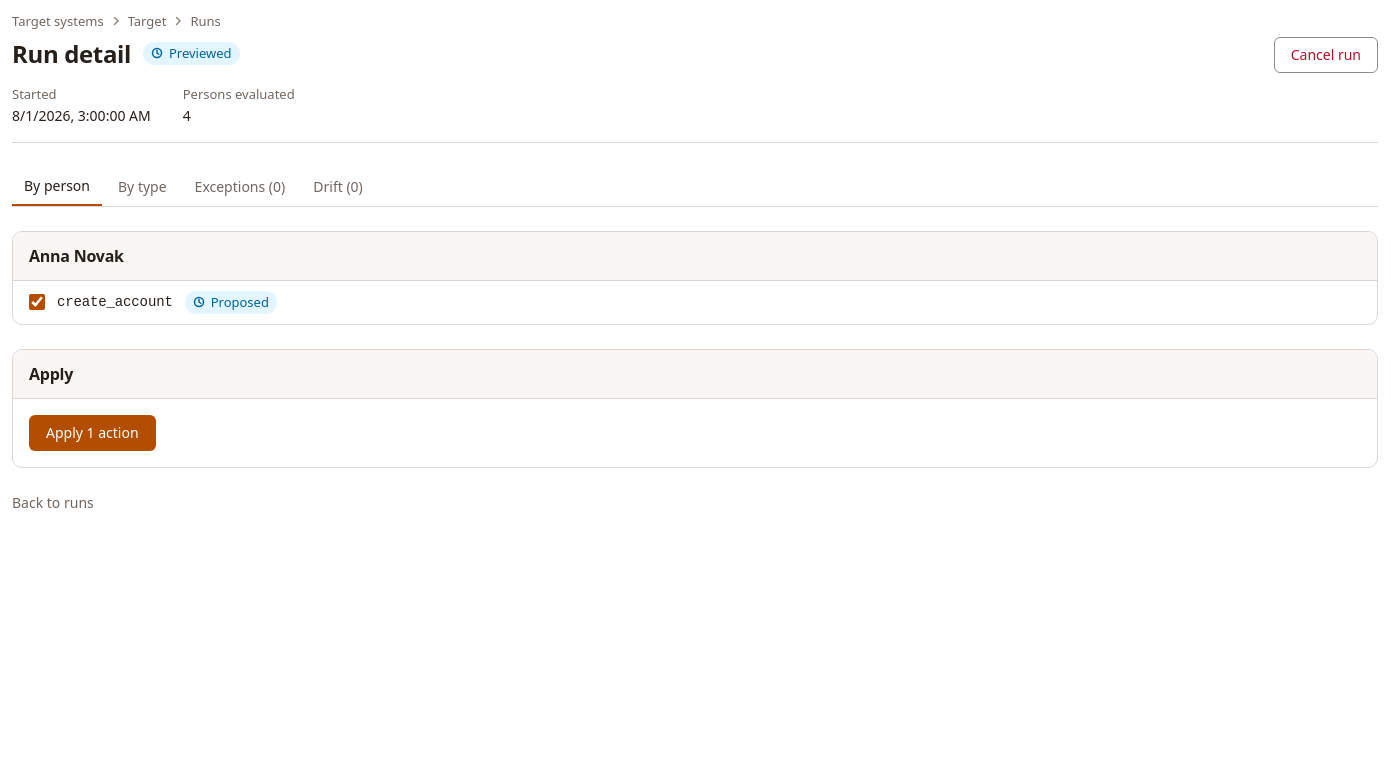
ProvisionRunDetailPage › does not let an in-flight action read as a plain success
Expected: the heading "Anna Novak" is shown, [29,244,124,268]
Step 1. Click the button "Apply 1 action" → (92, 433), box [29,415,156,451]
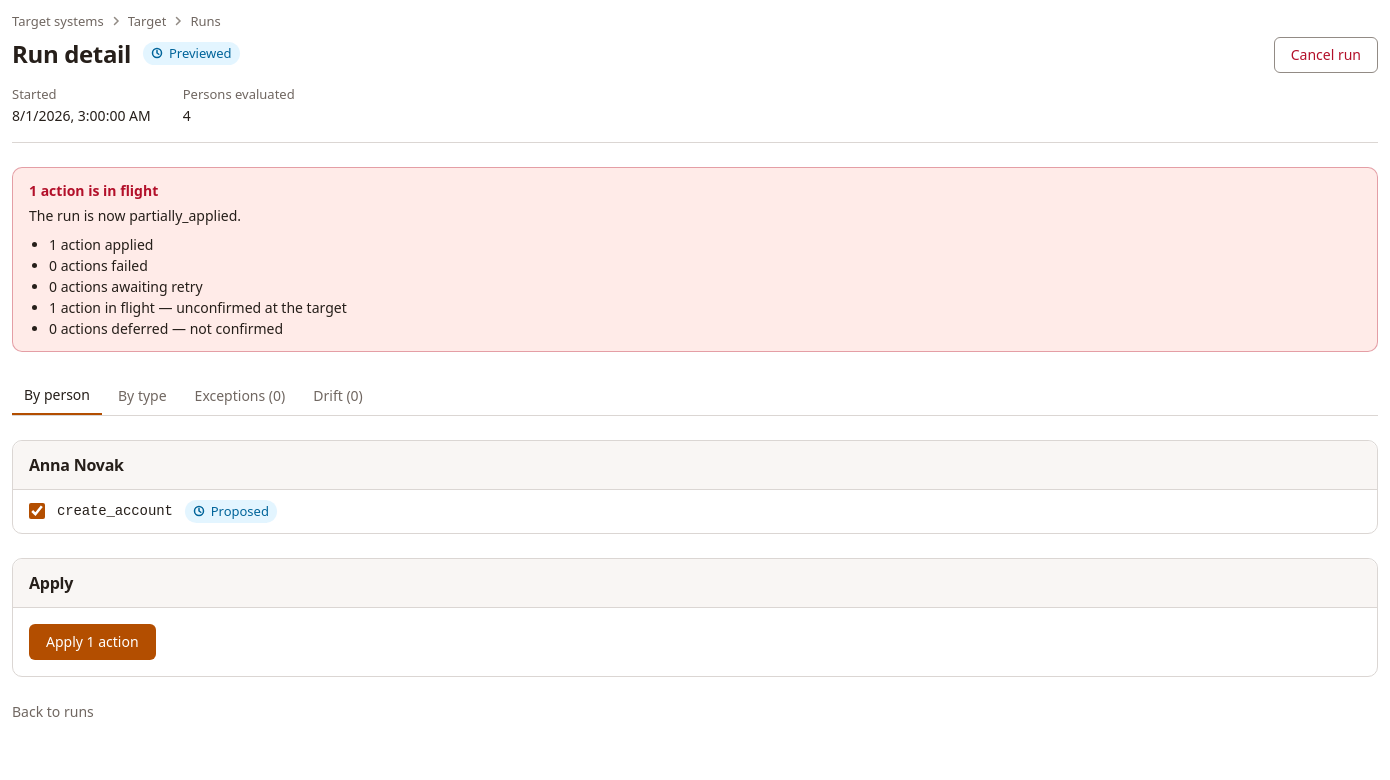
Expected: the text "1 action is in flight" is shown, [29,181,158,200]
Expected: the text "1 action is in flight" shows "1 action in flight — unconfirmed at the target", [12,167,1378,352]
